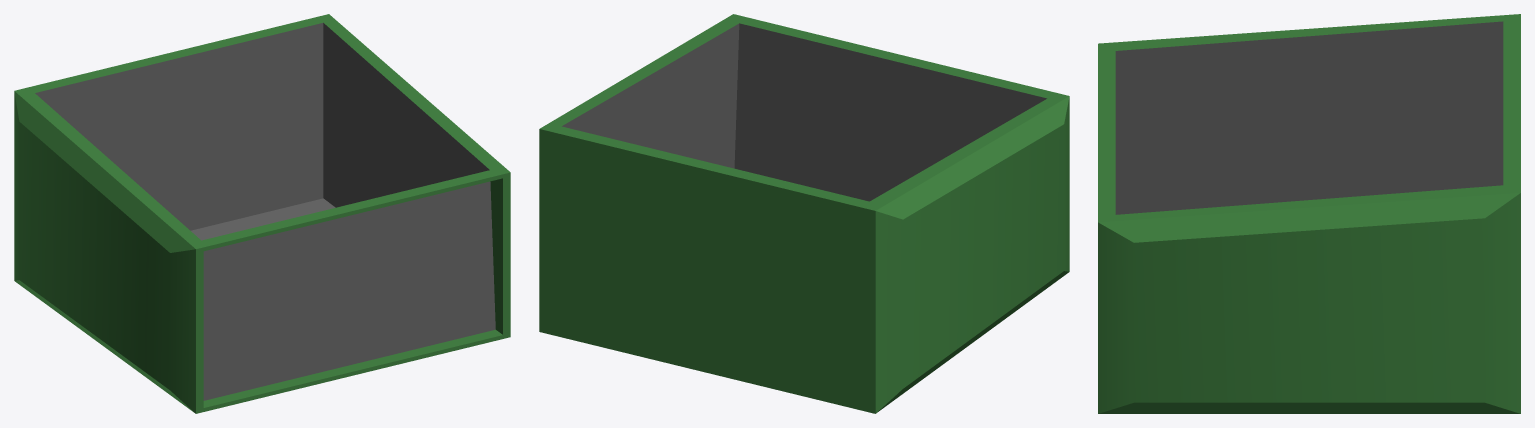
File: Contenedor.fbx
3 renders of one model, left to right at view 1: azimuth 30°, elevation 25°; view 2: azimuth 150°, elevation 25°; view 3: azimuth 270°, elevation 25°, orthographic. The views are drawn at different scales.
Visible parts, largest first — view 1: Cubo.001; view 2: Cubo.001; view 3: Cubo.001.
Part boxes in pixels (<box>): Cubo.001: <box>14,14,510,413</box>; Cubo.001: <box>539,14,1069,413</box>; Cubo.001: <box>1098,14,1520,413</box>.
Bounding box in the file's own units: 426 × 231 × 400.
